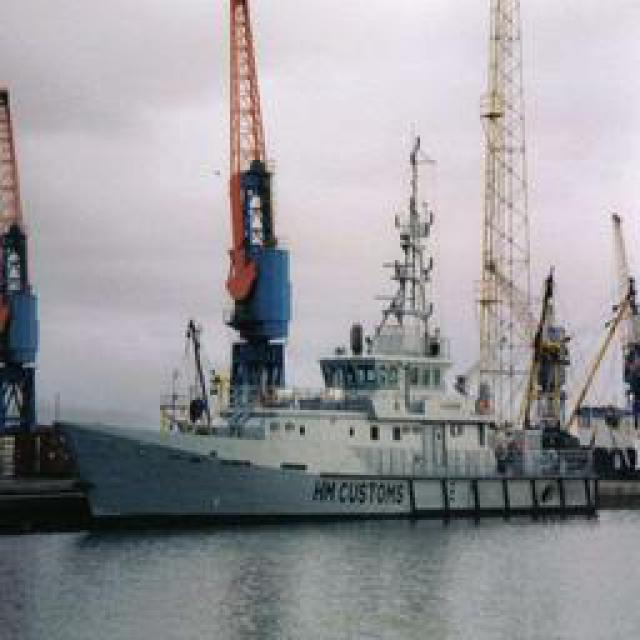Ship: (56, 82, 616, 520)
